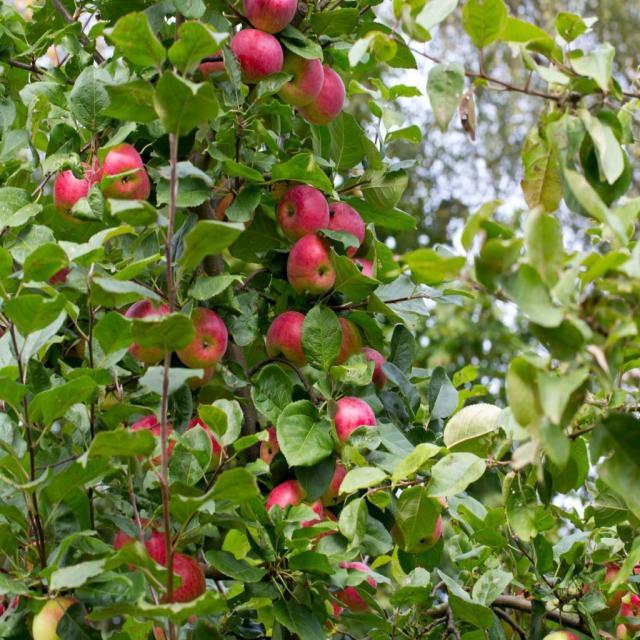Red Apple: (172, 303, 230, 373), (116, 518, 169, 575), (269, 479, 324, 532), (233, 26, 282, 83), (125, 294, 170, 356), (288, 235, 335, 292), (277, 183, 326, 237), (33, 596, 92, 640), (181, 419, 229, 472), (327, 197, 367, 258), (301, 68, 346, 122), (160, 554, 205, 607), (56, 168, 99, 222), (581, 559, 626, 610), (281, 50, 322, 104), (317, 316, 360, 367), (330, 397, 376, 444), (98, 144, 141, 193), (332, 249, 378, 294), (131, 418, 175, 465), (182, 34, 231, 75), (269, 312, 309, 362), (307, 592, 352, 635), (395, 510, 441, 552), (311, 456, 352, 503), (195, 176, 236, 217), (345, 565, 380, 612), (152, 608, 201, 640), (117, 164, 156, 204), (352, 344, 385, 387), (262, 426, 291, 472), (243, 2, 298, 25), (1, 584, 32, 620), (600, 617, 640, 640), (625, 591, 640, 630), (625, 561, 640, 596), (49, 265, 70, 290), (547, 628, 578, 640)
